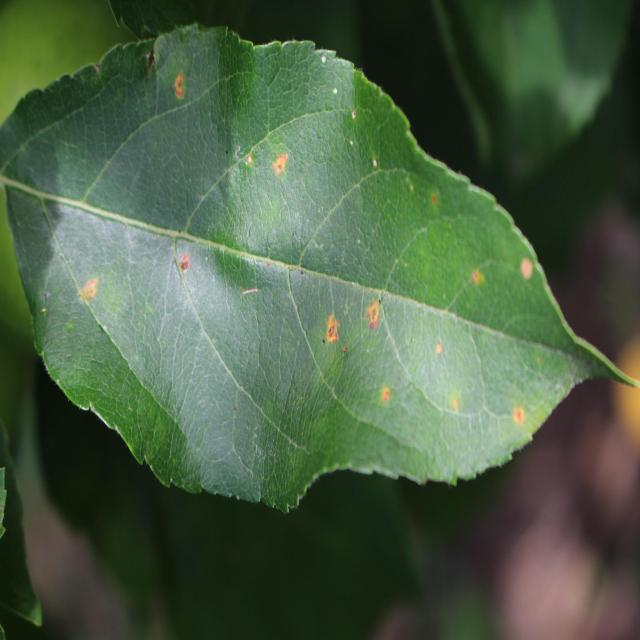Rust: (270, 144, 300, 183), (322, 308, 342, 362), (172, 64, 192, 114), (76, 274, 100, 310), (376, 384, 402, 413), (363, 300, 381, 340), (510, 396, 526, 439), (466, 264, 484, 296), (447, 391, 466, 419), (428, 189, 446, 217), (434, 340, 444, 360)
